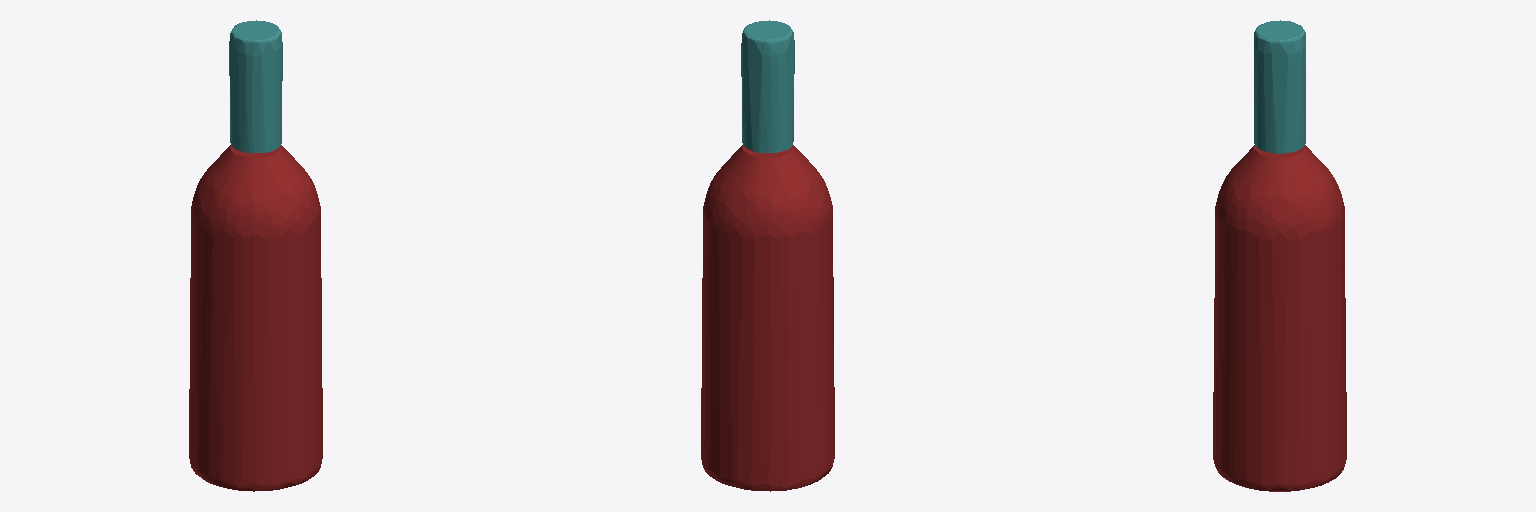
URDF robot description (root):
<robot name="root">
  <link name="bottle_body">
    <inertial>
      <origin xyz="0 0 0" rpy="0 0 0"/>
    </inertial>
    <mass value="1.00E-02"/>
    <visual>
      <origin xyz="0 0 0" rpy="0 0 0"/>
      <geometry>
        <mesh filename="core-bottle-950d6ca1d2b53ce52f71dfd07ef088cf-coacd_convex_piece_1.obj" scale="1.0000E-01 1.0000E-01 1.0000E-01"/>
      </geometry>
      <material name="">
        <color rgba="6.00E-01 2.00E-01 2.00E-01 1"/>
      </material>
    </visual>
    <collision>
      <origin xyz="0 0 0" rpy="0 0 0"/>
      <geometry>
        <mesh filename="core-bottle-950d6ca1d2b53ce52f71dfd07ef088cf-coacd_convex_piece_1.obj" scale="1.0000E-01 1.0000E-01 1.0000E-01"/>
      </geometry>
    </collision>
  </link>
  <link name="bottle_cap">
    <origin xyz="0 0 0.002" rpy="0 0 0"/>
    <mass value="1.00E-02"/>
    <visual>
      <origin xyz="0 0 0.002" rpy="0 0 0"/>
      <geometry>
        <mesh filename="core-bottle-950d6ca1d2b53ce52f71dfd07ef088cf-coacd_convex_piece_0.obj" scale="1.0000E-01 1.0000E-01 1.0000E-01"/>
      </geometry>
      <material name="">
        <color rgba="3.00E-01 6.00E-01 6.00E-01 1"/>
      </material>
    </visual>
    <collision>
      <origin xyz="0 0 0.002" rpy="0 0 0"/>
      <geometry>
        <mesh filename="core-bottle-950d6ca1d2b53ce52f71dfd07ef088cf-coacd_convex_piece_0.obj" scale="1.0000E-01 1.0000E-01 1.0000E-01"/>
      </geometry>
    </collision>
  </link>
  <joint name="bottle_cap_joint" type="revolute">
    <origin xyz="0 0 0" rpy="0 0 0"/>
    <parent link="bottle_body"/>
    <child link="bottle_cap"/>
    <axis xyz="0 0 1"/>
    <limit lower="0.00" upper="6.28"/>
    <dynamics damping="0.05"/>
  </joint>
</robot>

--- Render facts (derived) ---
Views: 3 orthographic renders of the robot side by side, from view 1: azimuth 30°, elevation 25°; view 2: azimuth 150°, elevation 25°; view 3: azimuth 270°, elevation 25°.
Robot: root — 2 links, 1 joints (1 revolute); root link bottle_body; default pose: every joint at zero.
Visible links, largest first — view 1: bottle_body, bottle_cap; view 2: bottle_body, bottle_cap; view 3: bottle_body, bottle_cap.
Link boxes in pixels (x1,y1,x2,y2): bottle_body: (189,145,322,491); bottle_cap: (229,20,282,152); bottle_body: (701,145,834,491); bottle_cap: (741,20,794,152); bottle_body: (1213,145,1346,491); bottle_cap: (1254,20,1305,153).
Size in the robot's own frame: 0.0535 by 0.0535 by 0.1914 metres.
2 mesh visuals loaded from 2 distinct referenced files (2 OBJ).